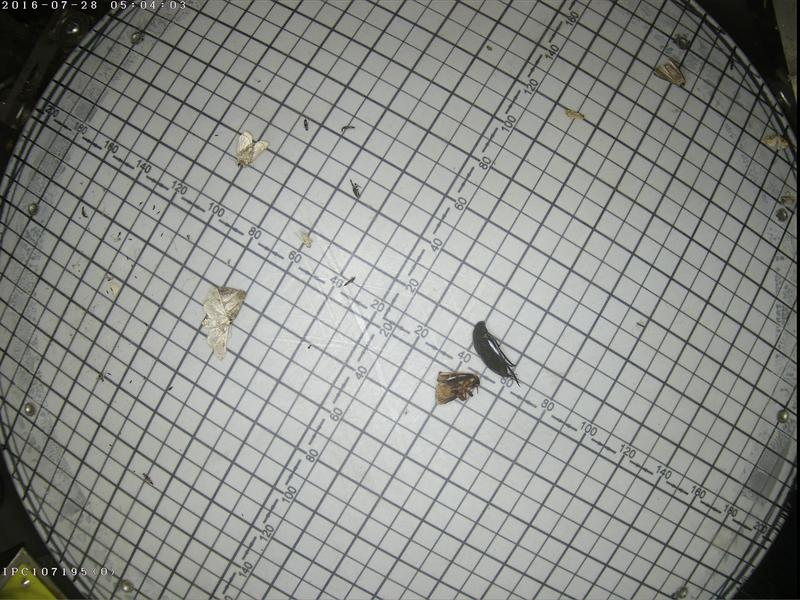Spodoptera exigua: (218, 281, 241, 320)
